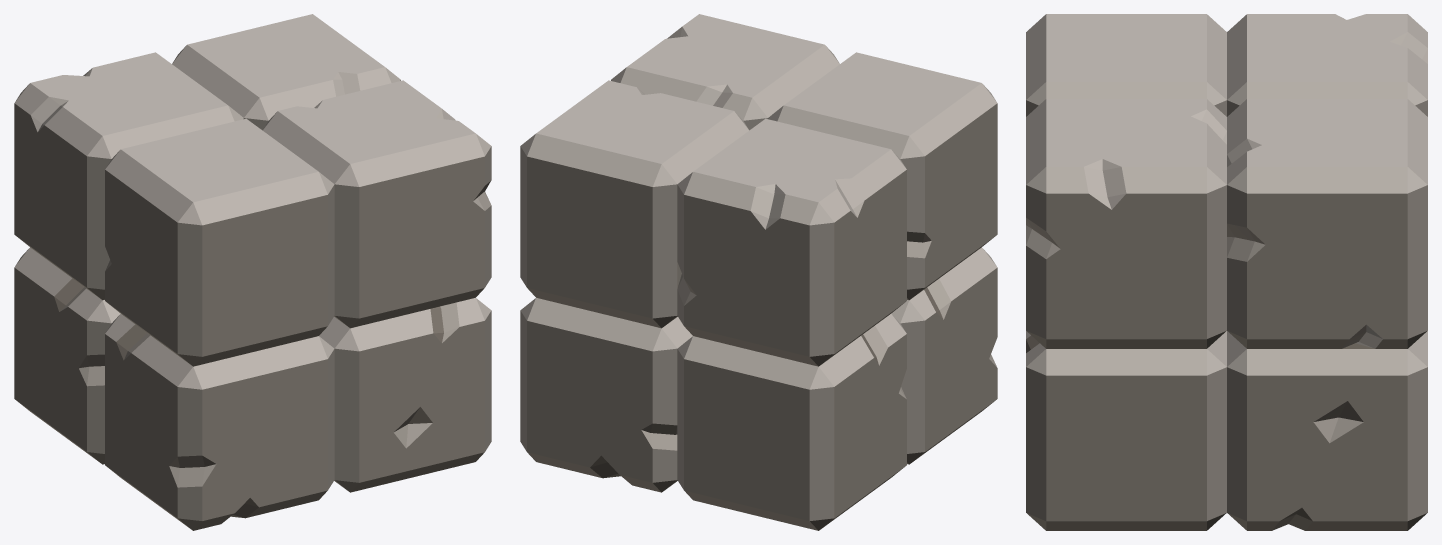
Rendered from m_kub_stone_miniCubePile.FBX.
The picture shows the model from 3 angles, left to right: view 1: azimuth 30°, elevation 25°; view 2: azimuth 150°, elevation 25°; view 3: azimuth 270°, elevation 25°; orthographic projection. The views are drawn at different scales.
Parts seen in each view (by area): view 1: m_kub_stone_miniCubePile; view 2: m_kub_stone_miniCubePile; view 3: m_kub_stone_miniCubePile.
Boxes of the visible parts, box(x1,y1,x2,y2) form: m_kub_stone_miniCubePile: box(14, 14, 491, 530); m_kub_stone_miniCubePile: box(520, 14, 997, 530); m_kub_stone_miniCubePile: box(1026, 14, 1427, 530).
Bounding box in the file's own units: 2 × 2 × 2.
